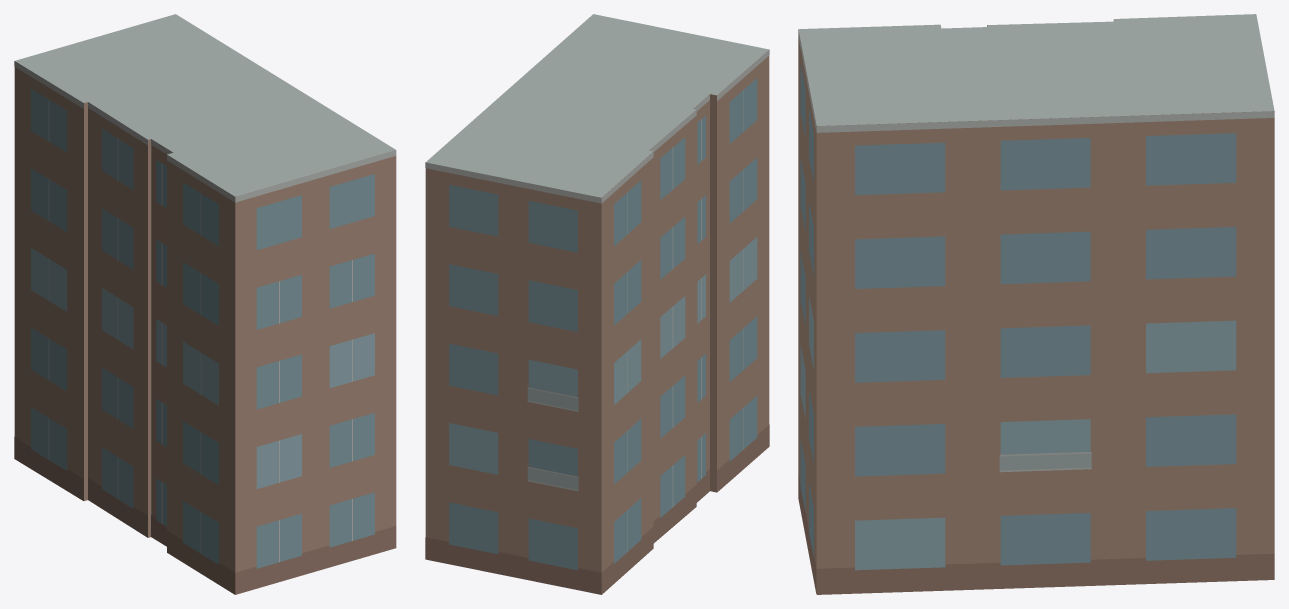
Rendered from survey-upis-32743361.glb.
3 views of the same model, side by side, from view 1: azimuth 30°, elevation 25°; view 2: azimuth 150°, elevation 25°; view 3: azimuth 270°, elevation 25° (orthographic). The views are drawn at different scales.
Parts seen in each view (by area): view 1: survey-upis-32743361.tmp; view 2: survey-upis-32743361.tmp; view 3: survey-upis-32743361.tmp.
Part boxes in pixels (<box>): survey-upis-32743361.tmp: <box>14,14,396,594</box>; survey-upis-32743361.tmp: <box>425,14,769,594</box>; survey-upis-32743361.tmp: <box>798,14,1274,594</box>.
Bounding box in the file's own units: 8.62 × 16.79 × 15.47.
